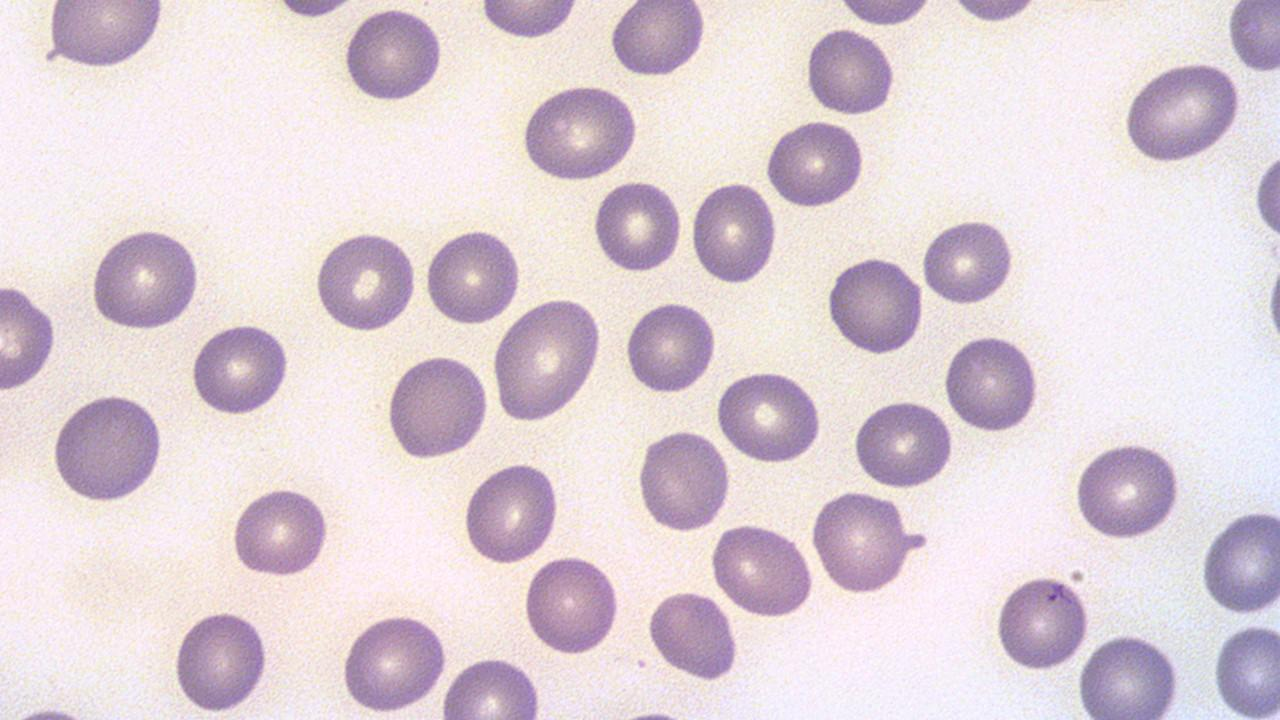RBC: (492, 292, 606, 425), (47, 388, 167, 508), (1119, 57, 1245, 167), (809, 486, 929, 596), (518, 80, 641, 183), (87, 225, 204, 332), (336, 608, 450, 714), (382, 352, 491, 462), (1071, 437, 1183, 543), (310, 226, 419, 333), (520, 551, 625, 658), (714, 365, 826, 465), (172, 607, 274, 715), (461, 458, 563, 566), (708, 520, 818, 620), (822, 252, 926, 357), (633, 424, 732, 534), (942, 330, 1044, 435), (340, 5, 446, 106), (990, 570, 1092, 674), (422, 225, 524, 327), (188, 320, 294, 418), (226, 483, 334, 579), (687, 176, 779, 287), (850, 397, 956, 492), (1074, 628, 1184, 718), (762, 115, 866, 210), (643, 586, 742, 684), (1198, 504, 1280, 620), (622, 298, 718, 397), (590, 176, 684, 275), (42, 1, 169, 73), (918, 214, 1016, 306), (802, 25, 896, 118), (607, 1, 709, 78), (437, 653, 544, 717), (1211, 618, 1279, 717), (1, 279, 59, 394), (478, 2, 581, 42), (1224, 3, 1278, 76), (1252, 138, 1280, 252), (833, 0, 940, 28), (943, 0, 1042, 27), (268, 0, 359, 22)
